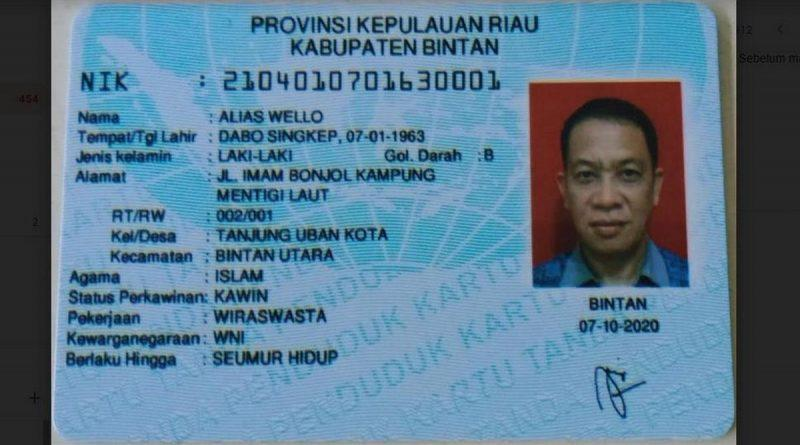ID-card: (54, 3, 720, 435)
